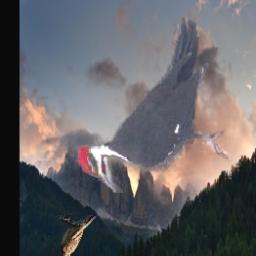Sparrow: (58, 215, 96, 256)
Woodpecker: (74, 18, 230, 194)
